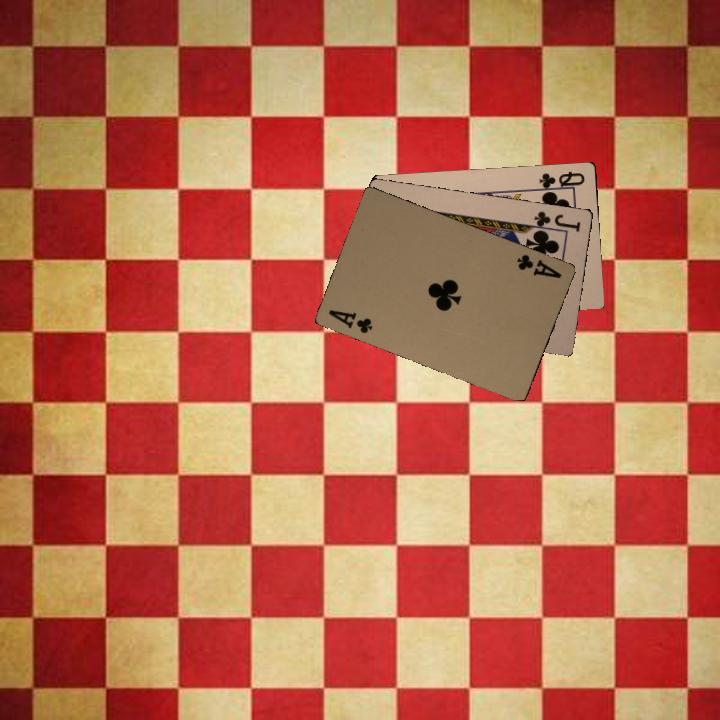Ac: (513, 250, 564, 281), (324, 305, 375, 336)
Jc: (527, 207, 583, 236)
Qc: (534, 167, 587, 193)
